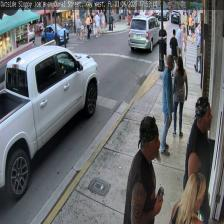person: (123, 116, 163, 224), (182, 96, 212, 224), (169, 172, 206, 224), (160, 54, 174, 155)
